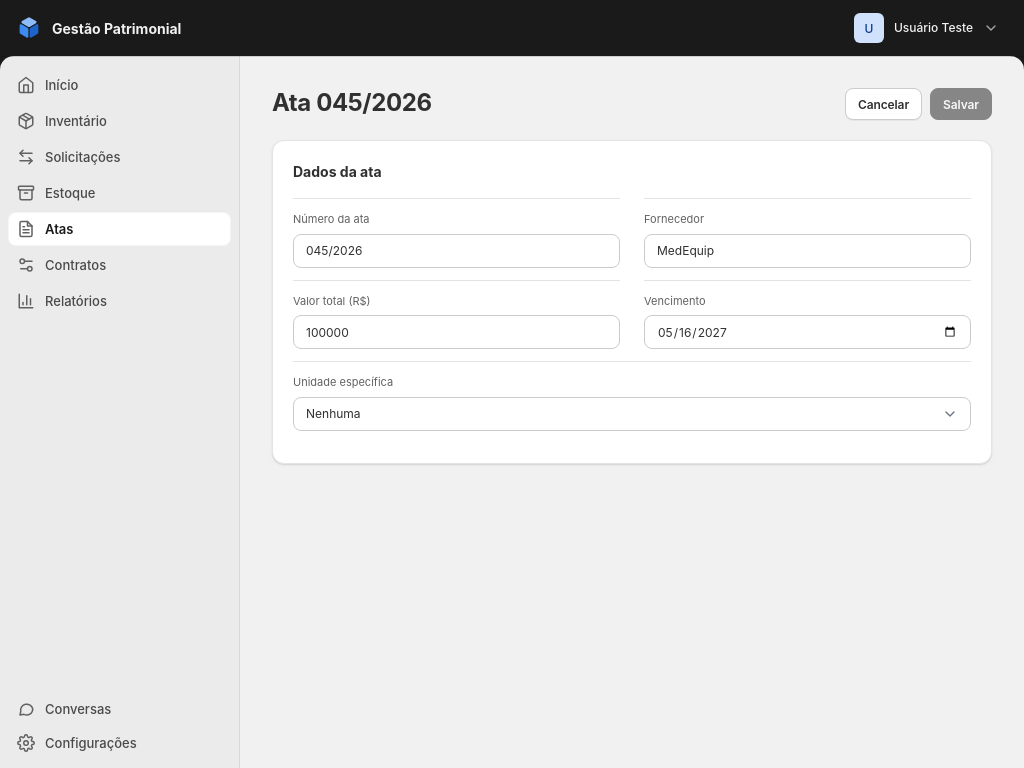
Scenario: Atas › edita uma ata mantendo o número fixo
This screenshot has width=1024, height=768.
Expected: the field labelled "Número da ata" holds "045/2026", top-left (293, 234), bottom-right (620, 268)
Expected: the field labelled "Número da ata" is disabled, top-left (293, 234), bottom-right (620, 268)
Replace the text in the field labelled "Fornecedor" with "Nova Empresa" at (808, 250), box top-left (644, 234), bottom-right (971, 268)
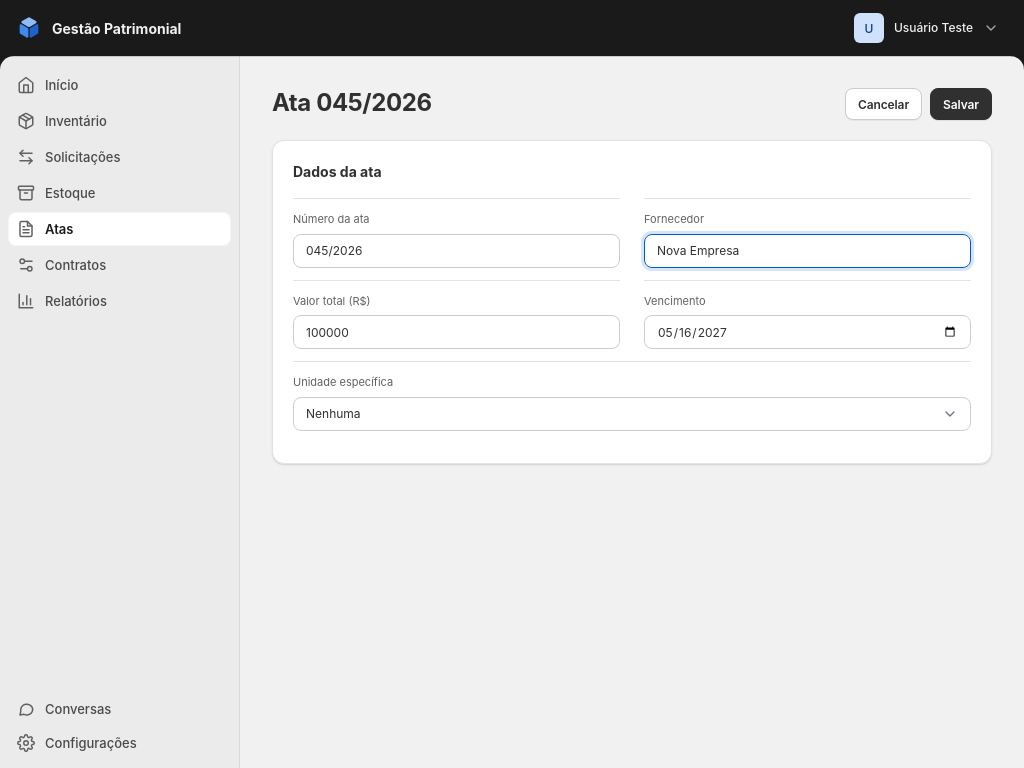
Click the button "Salvar".
click(961, 104)  # box top-left (930, 88), bottom-right (992, 120)
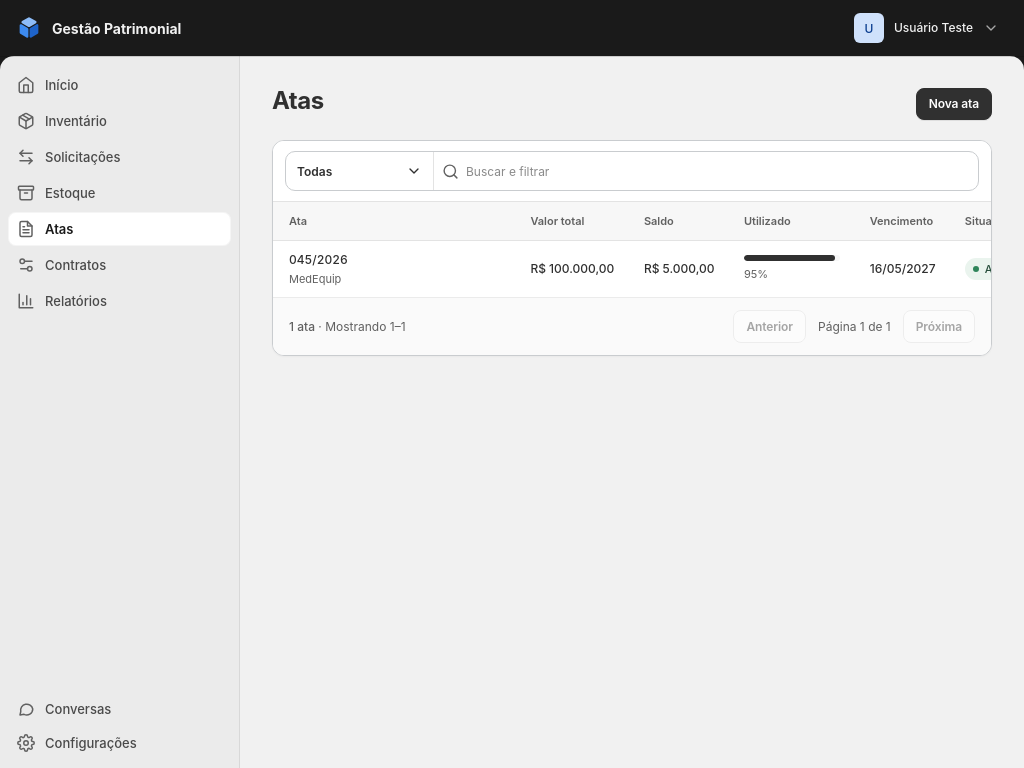
Expected: the heading "Atas" is shown, top-left (272, 88), bottom-right (324, 115)
